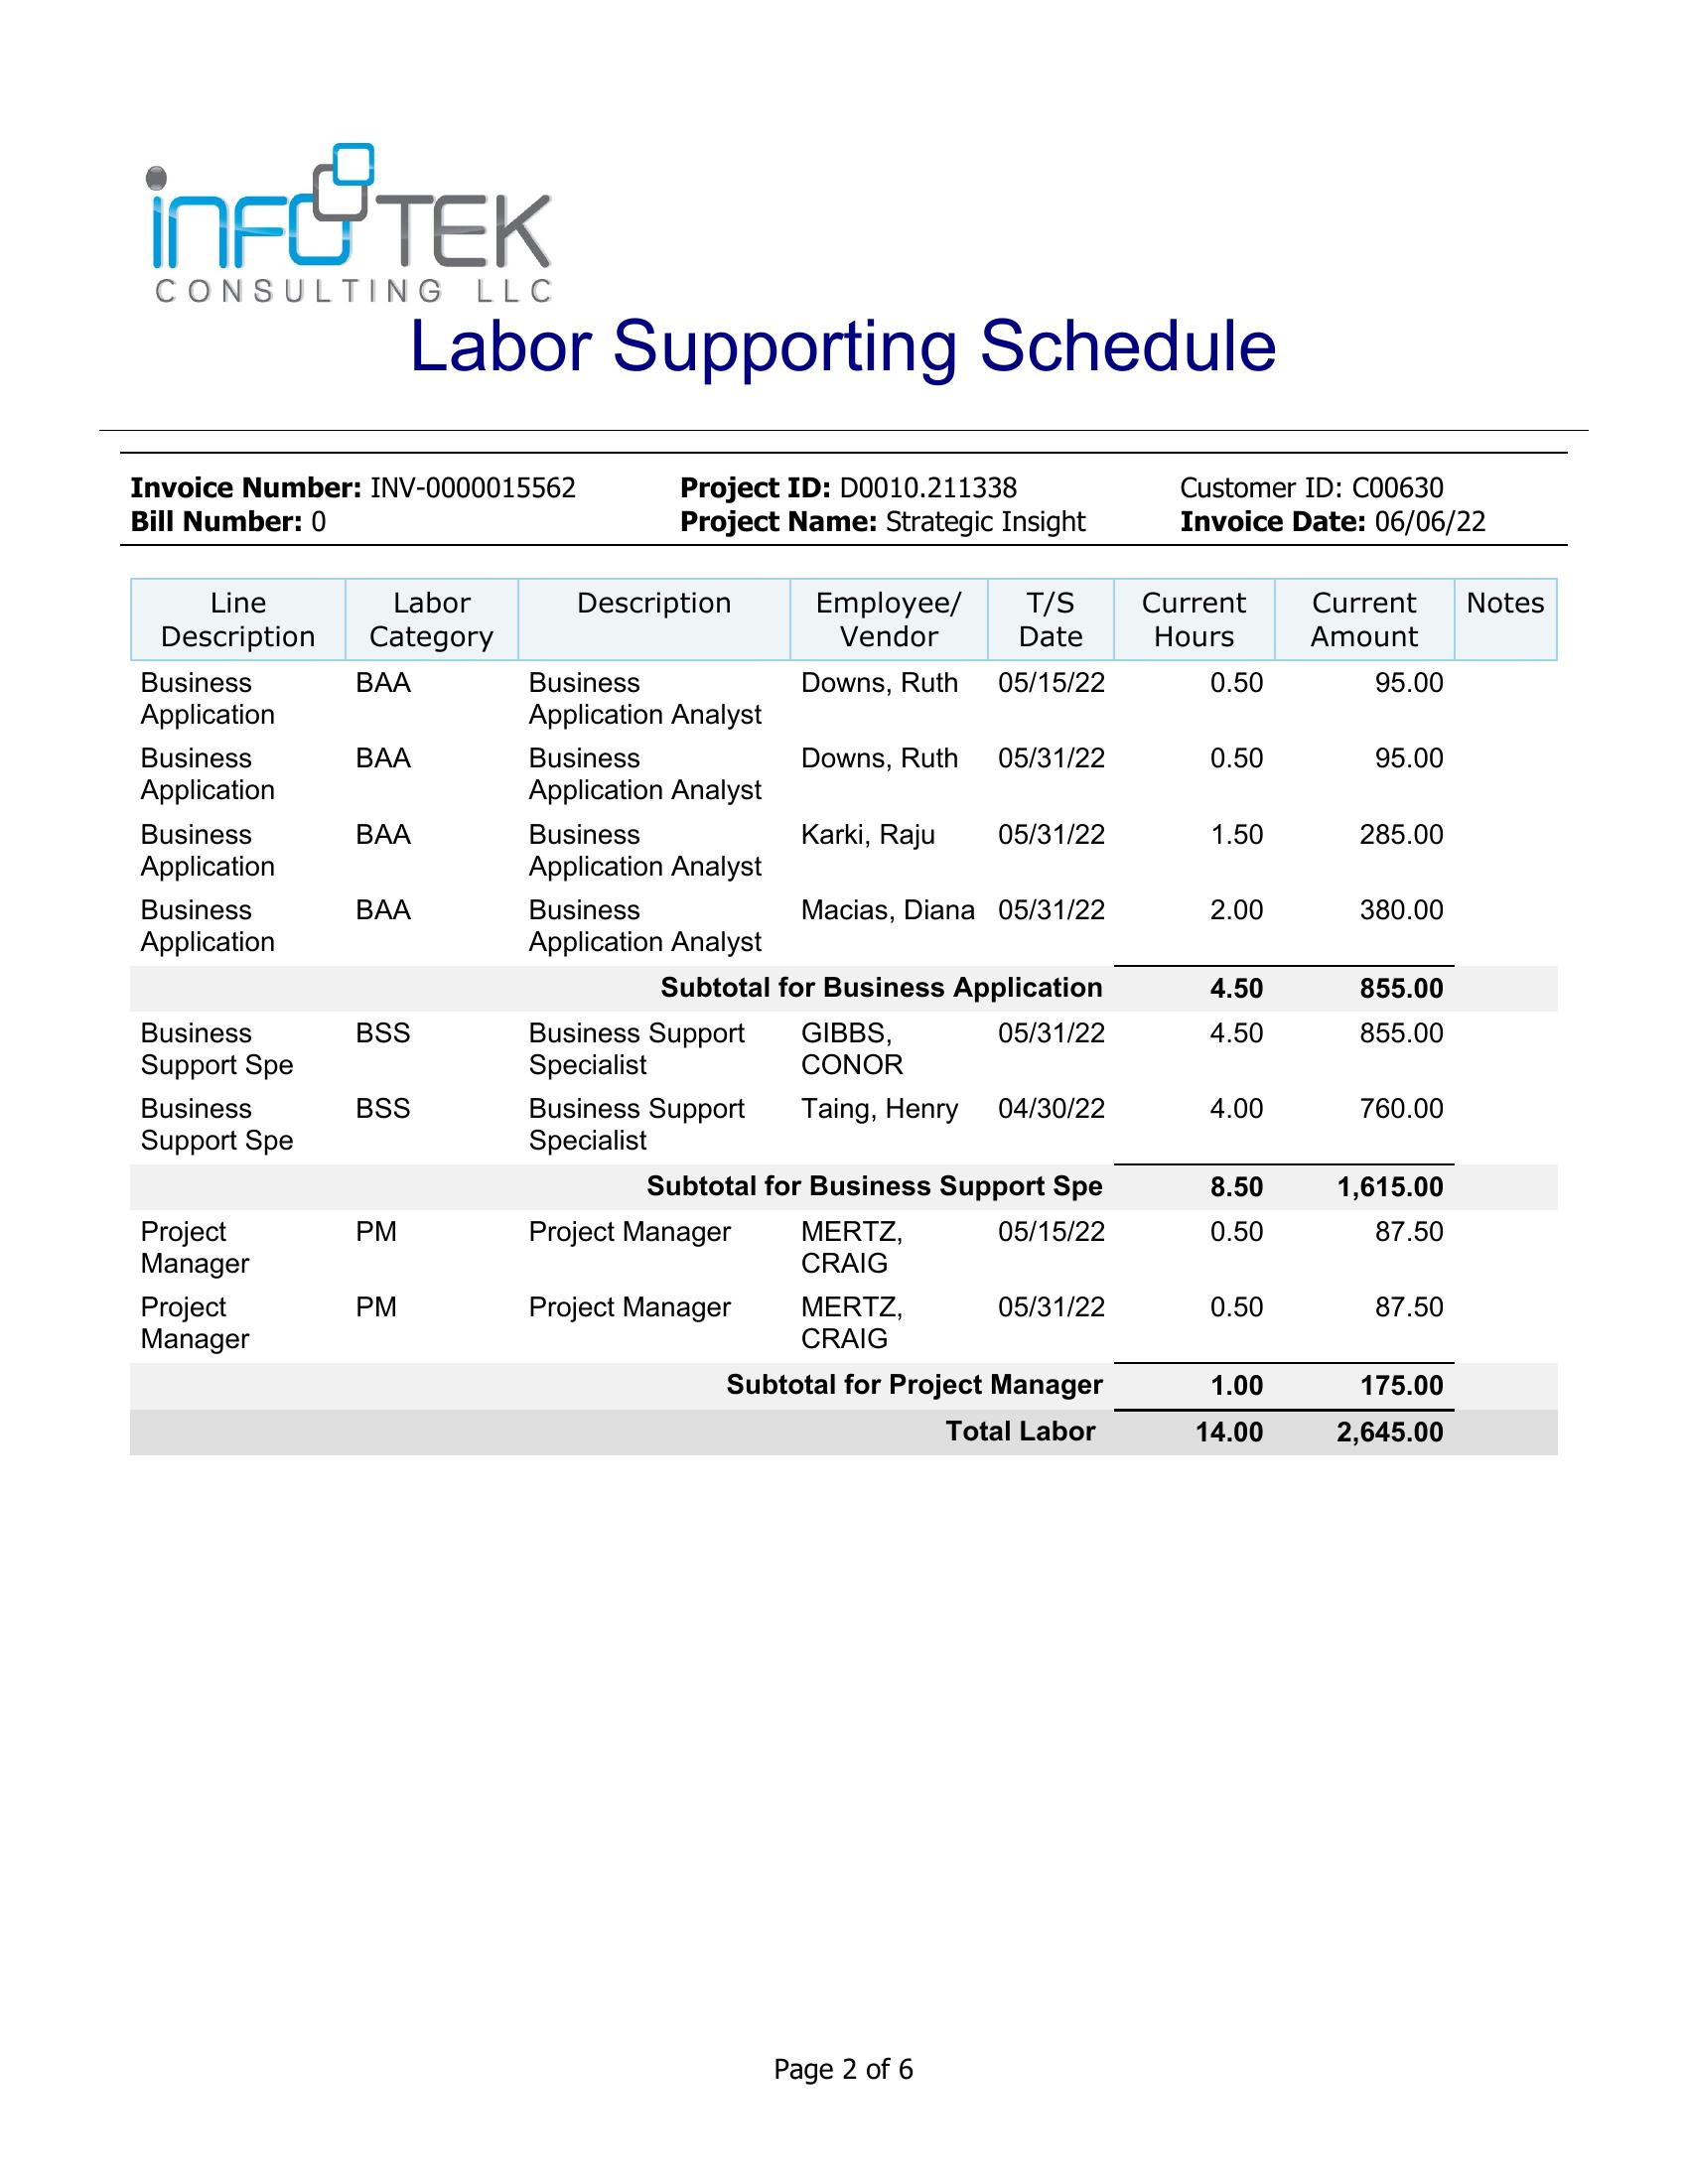table: (117, 567, 1587, 1367)
